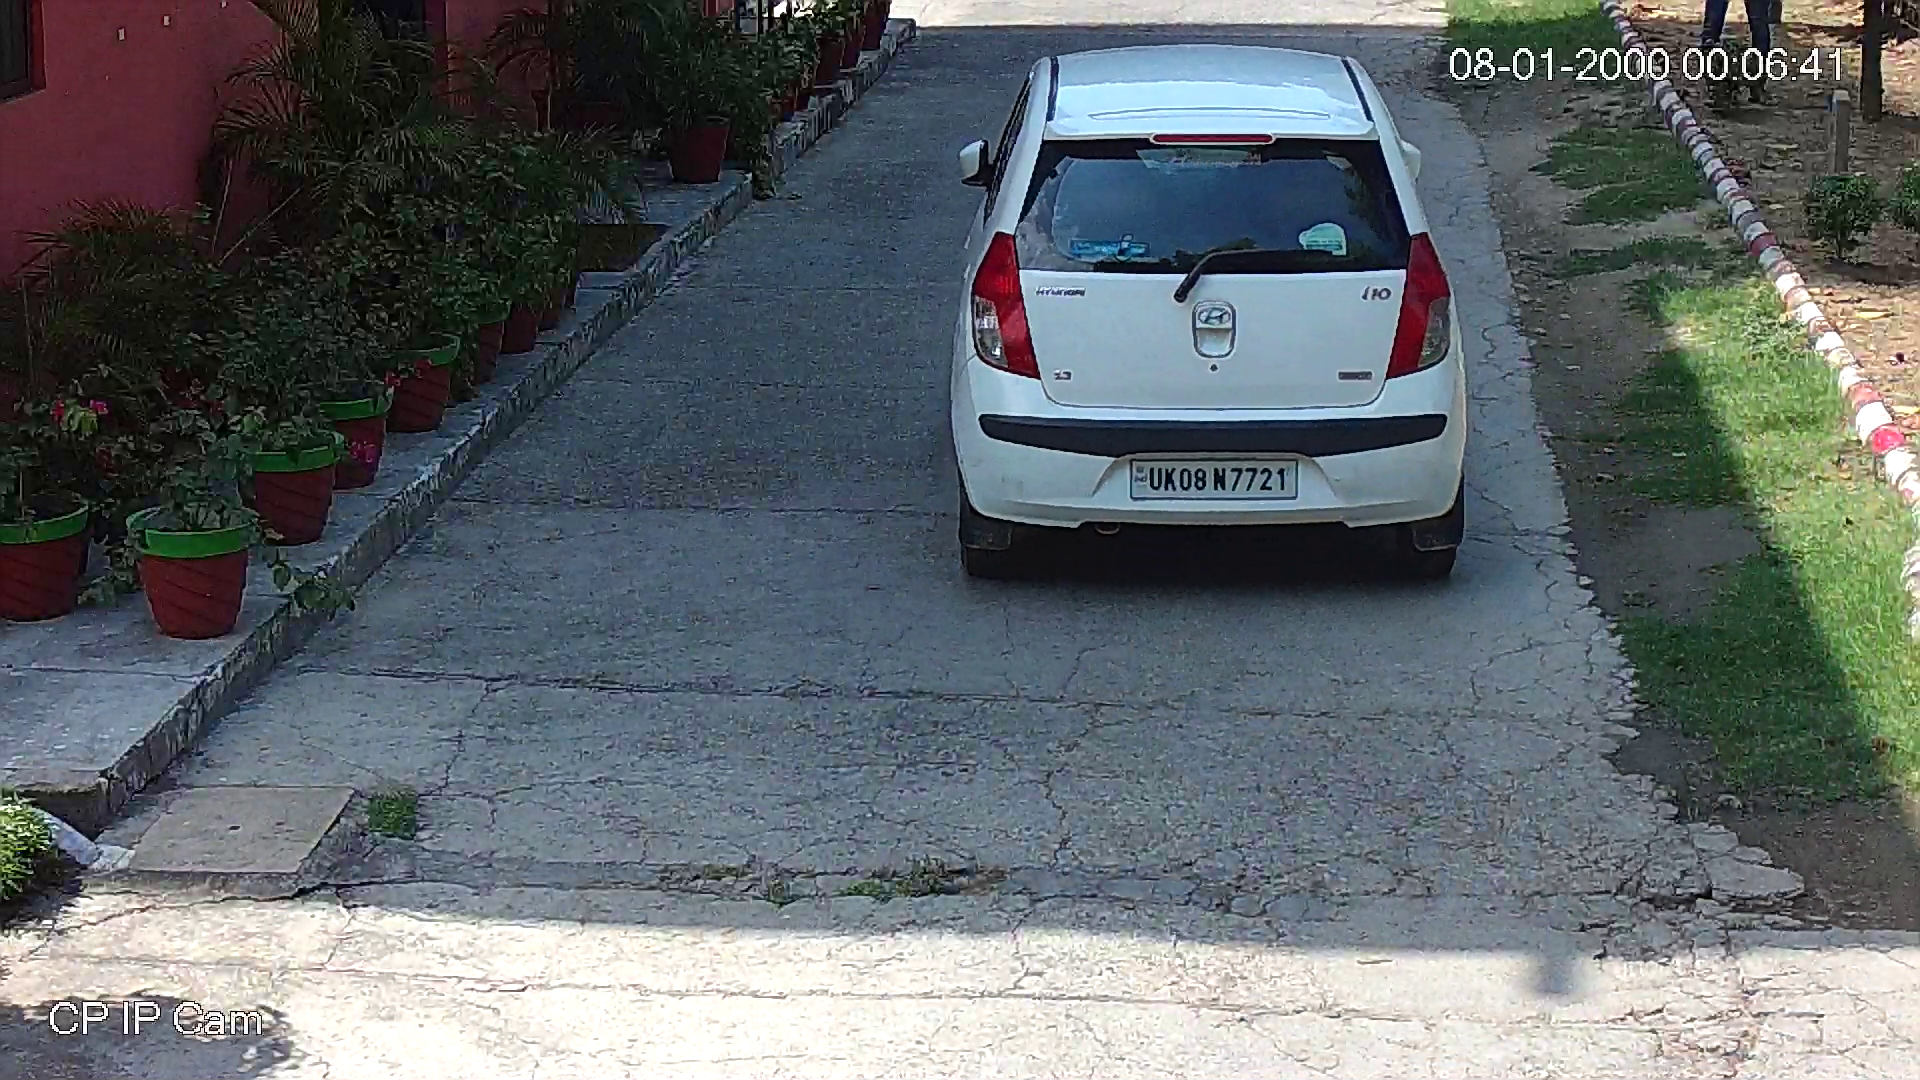plate: (1135, 461, 1297, 501)
